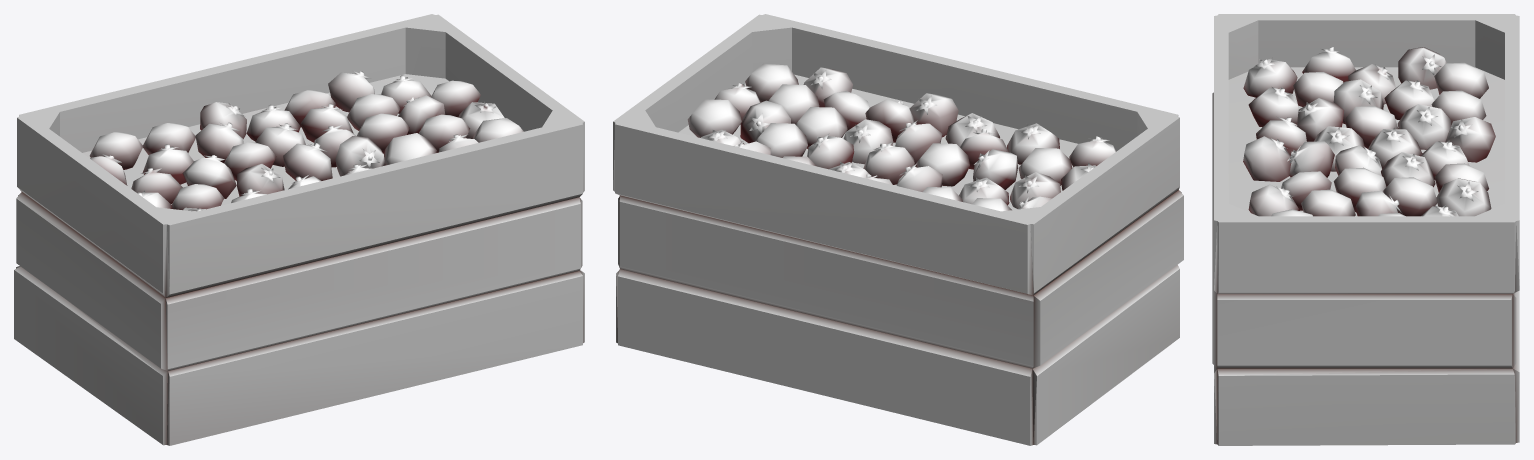
File: sb_obj_indoor015_Vegetables01c.fbx
The picture shows the model from 3 angles, left to right: view 1: azimuth 30°, elevation 25°; view 2: azimuth 150°, elevation 25°; view 3: azimuth 270°, elevation 25°; orthographic projection.
Parts seen in each view (by area): view 1: sb_obj_indoor015_Vegetables01c; view 2: sb_obj_indoor015_Vegetables01c; view 3: sb_obj_indoor015_Vegetables01c.
Part boxes in pixels (x1,y1,x2,y2): sb_obj_indoor015_Vegetables01c: [14, 14, 584, 445]; sb_obj_indoor015_Vegetables01c: [613, 14, 1183, 445]; sb_obj_indoor015_Vegetables01c: [1212, 14, 1519, 445].
Size of the model in its own units: 1.01 by 0.5 by 0.6233.
